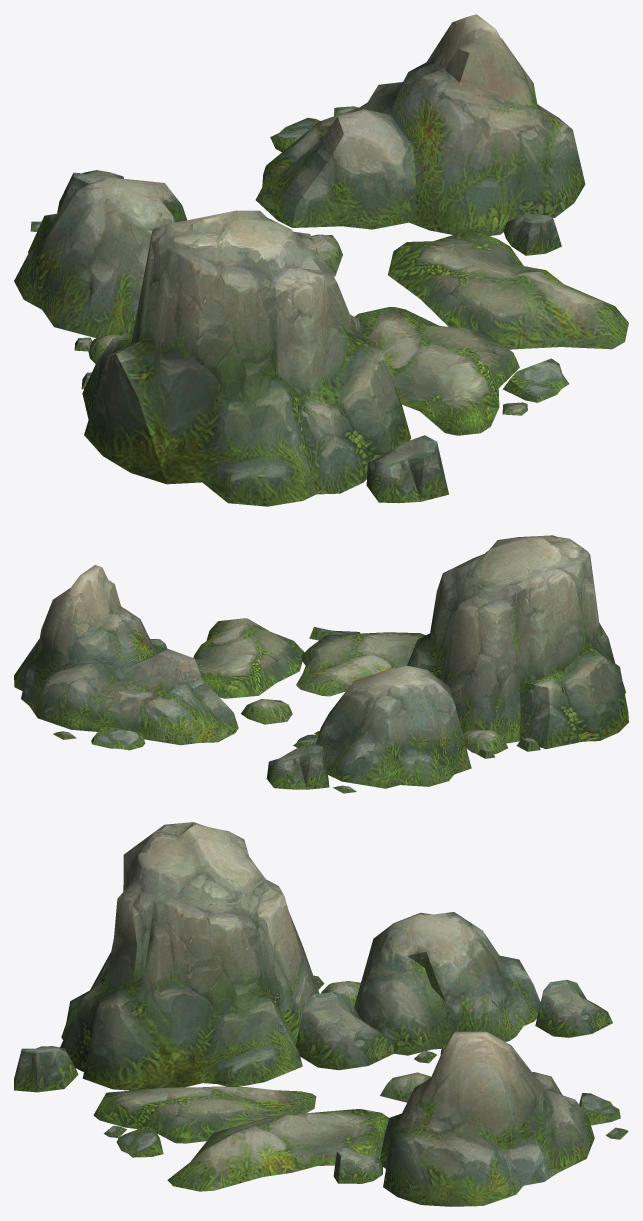
The model's file is 7001_Item_shitou_4.FBX.
The picture shows the model from 3 angles, top to bottom: view 1: azimuth 30°, elevation 25°; view 2: azimuth 150°, elevation 25°; view 3: azimuth 270°, elevation 25°; orthographic projection. The views are drawn at different scales.
Parts seen in each view (by area): view 1: 7001_Item_shitou_4; view 2: 7001_Item_shitou_4; view 3: 7001_Item_shitou_4.
Boxes of the visible parts, x1,y1,x2,y2 form: 7001_Item_shitou_4: [14, 14, 628, 506]; 7001_Item_shitou_4: [14, 535, 628, 793]; 7001_Item_shitou_4: [14, 822, 628, 1206].
Bounding box in the file's own units: 1048 × 380 × 1027.
